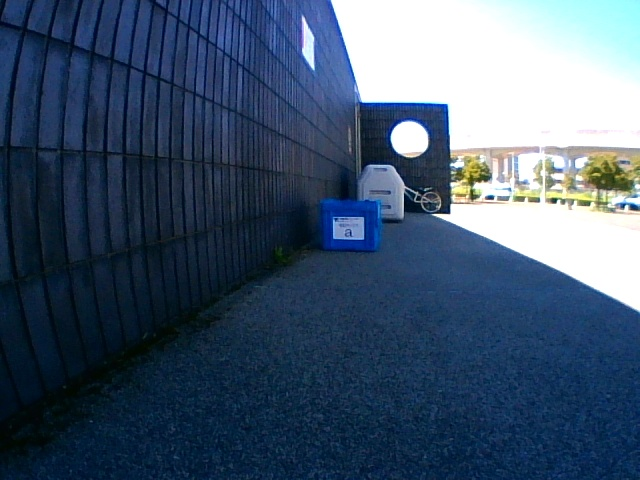blue_box: (320, 199, 381, 250)
tag_a: (333, 217, 363, 238)
